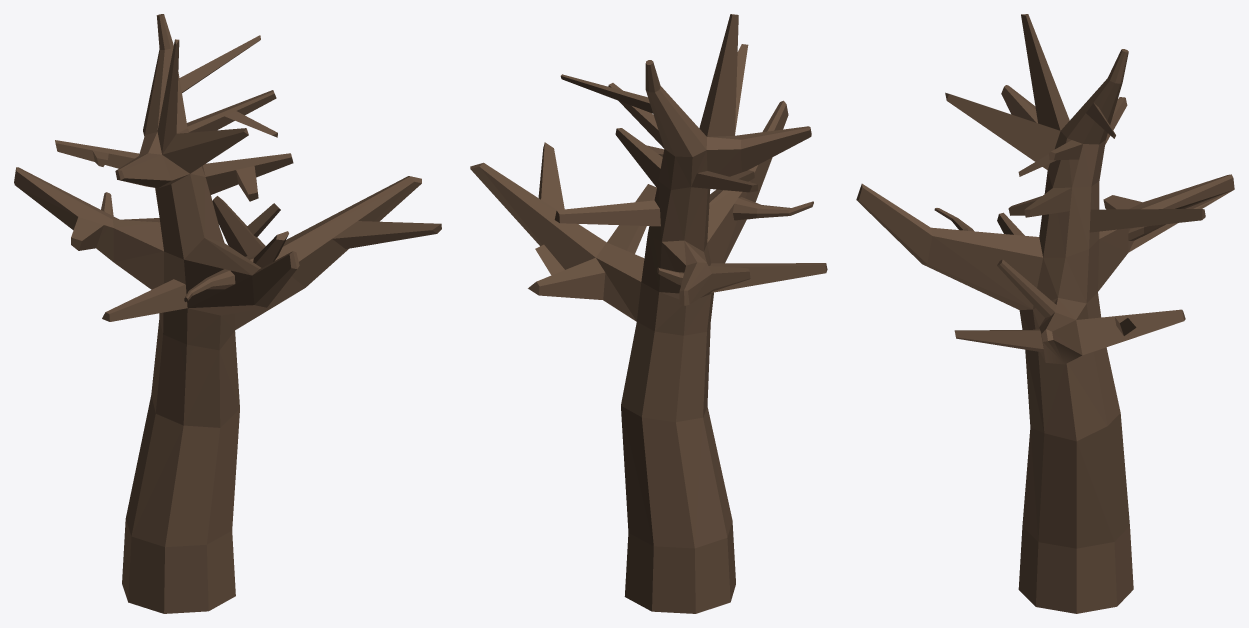
The model's file is Vegetation_Tree_Trunk_07.fbx.
The picture shows the model from 3 angles, left to right: view 1: azimuth 30°, elevation 25°; view 2: azimuth 150°, elevation 25°; view 3: azimuth 270°, elevation 25°; orthographic projection. The views are drawn at different scales.
Parts seen in each view (by area): view 1: Vegetation_Tree_Trunk_07; view 2: Vegetation_Tree_Trunk_07; view 3: Vegetation_Tree_Trunk_07.
Part boxes in pixels (x1,y1,x2,y2): Vegetation_Tree_Trunk_07: (14,14,441,613); Vegetation_Tree_Trunk_07: (470,14,827,613); Vegetation_Tree_Trunk_07: (856,14,1234,613).
Size of the model in its own units: 2867 by 4618 by 2817.
